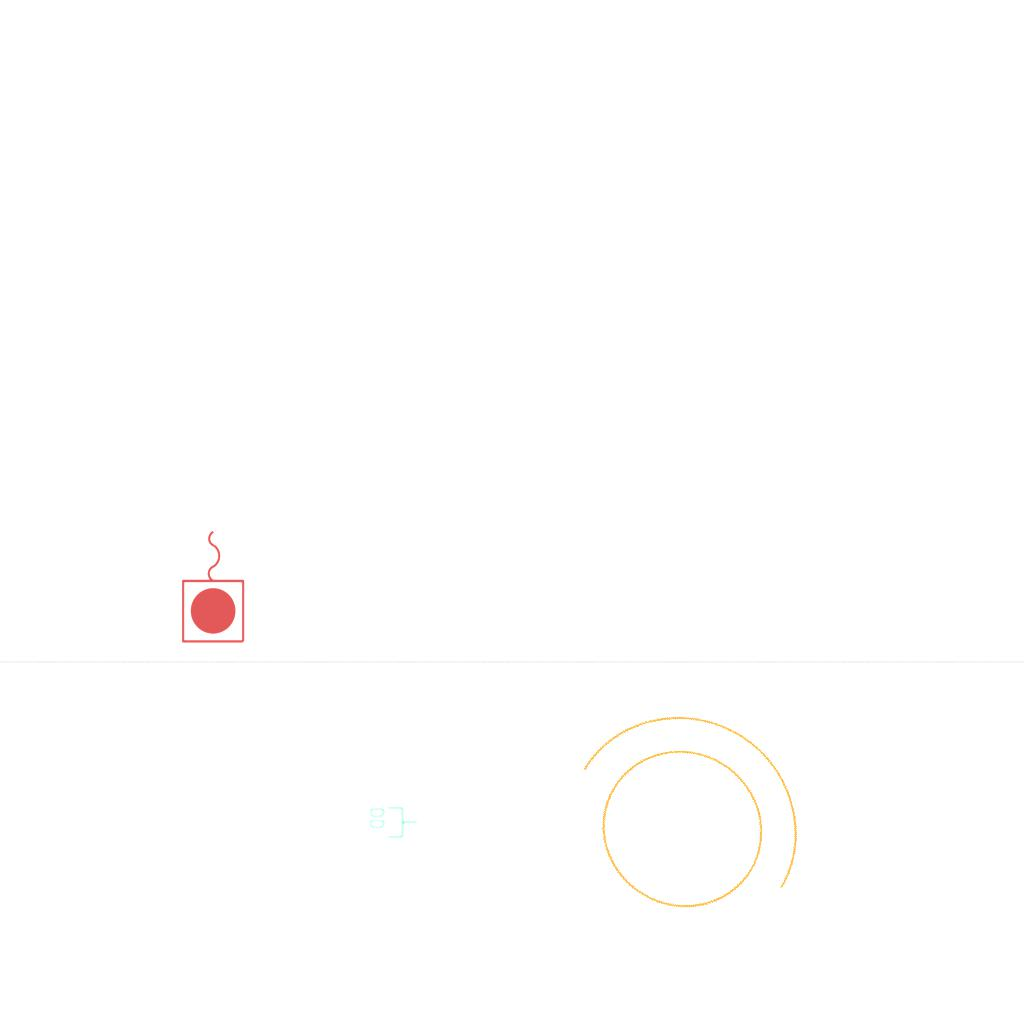Datenanschluss_zweifach: (368, 805, 419, 839)
Scheinwerfer_fuer_Alarmbeleuchtung: (510, 653, 854, 982)
Zugtaster: (178, 525, 250, 647)
